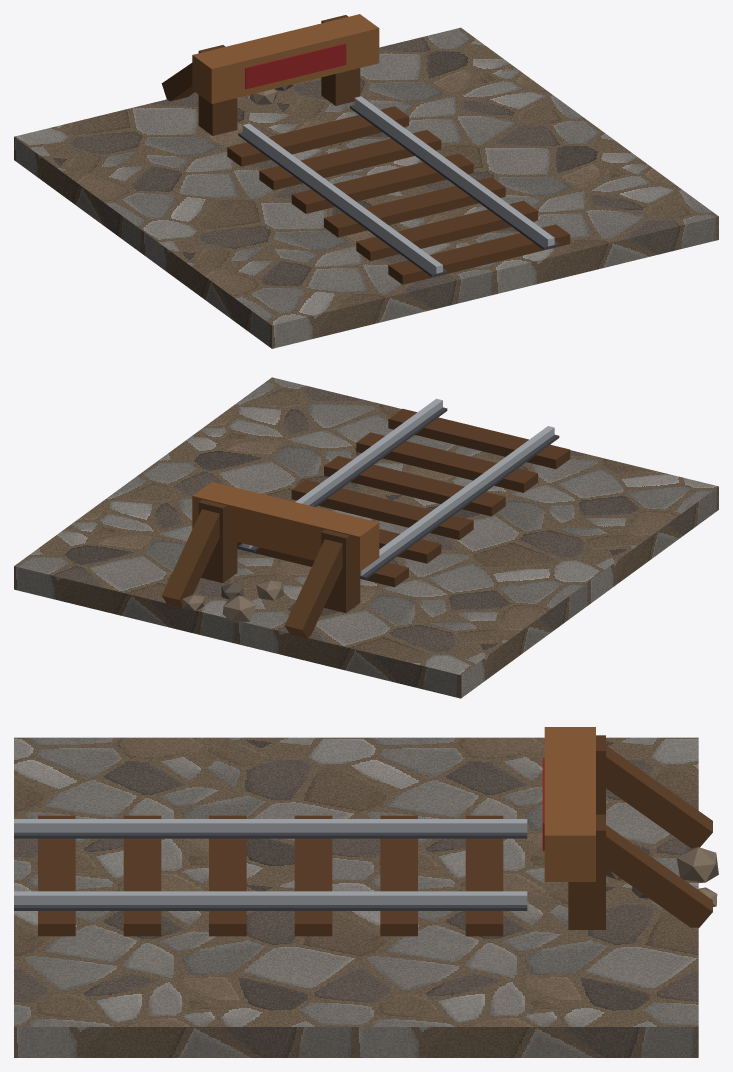
The model's file is mine_floor_rails_end.glb.
3 renders of one model, top to bottom at view 1: azimuth 30°, elevation 25°; view 2: azimuth 150°, elevation 25°; view 3: azimuth 270°, elevation 25°, orthographic. The views are drawn at different scales.
Visible parts, largest first — view 1: mine_floor_rails_end; view 2: mine_floor_rails_end; view 3: mine_floor_rails_end.
Part boxes in pixels (x1,y1,x2,y2): mine_floor_rails_end: [14, 14, 718, 348]; mine_floor_rails_end: [14, 377, 718, 698]; mine_floor_rails_end: [14, 727, 718, 1057].
Size of what is drawn, in the model's own units: 4 by 0.85 by 4.12.
8 materials, 1 textured.
